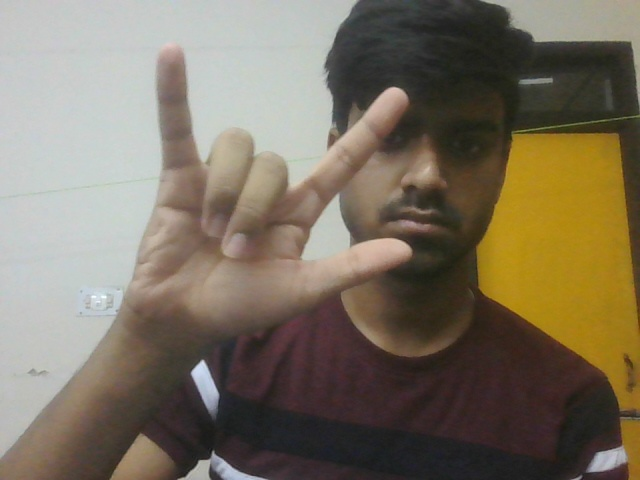iloveyou: (115, 40, 427, 361)
